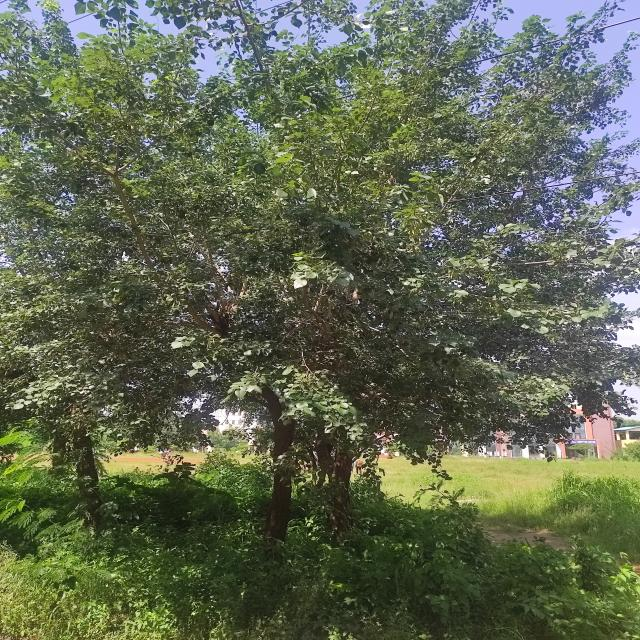Devakanchan tree: (24, 26, 600, 490)
